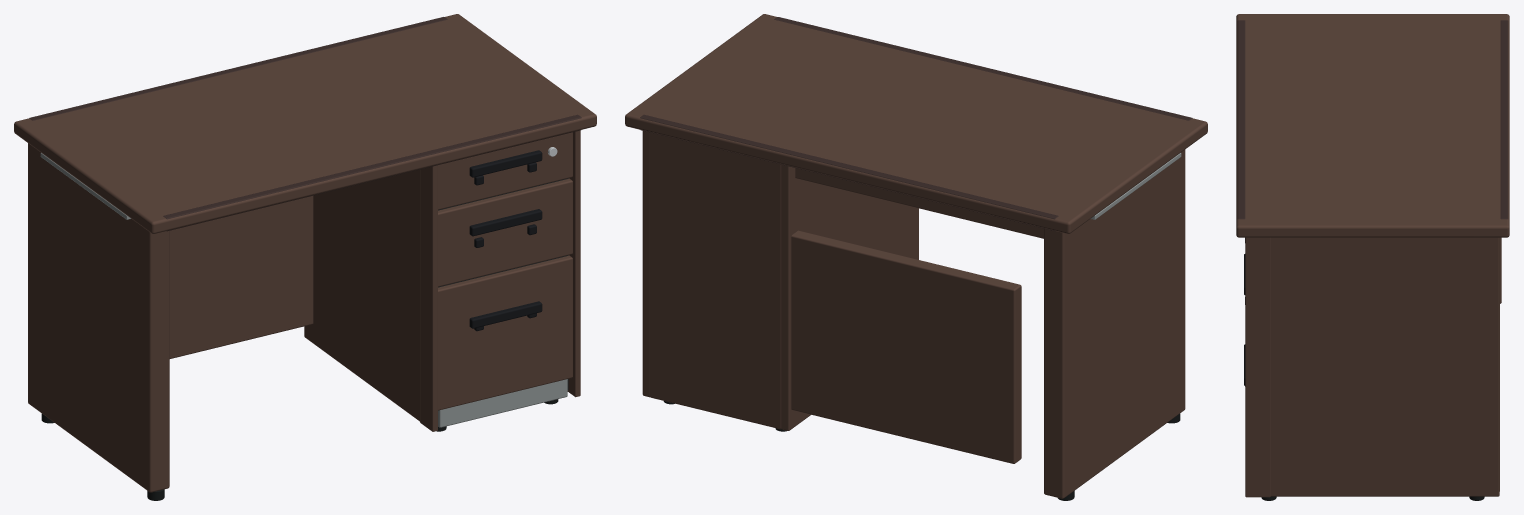
Rendered from wood-pedestal-desk.glb.
3 views of the same model, side by side, from view 1: azimuth 30°, elevation 25°; view 2: azimuth 150°, elevation 25°; view 3: azimuth 270°, elevation 25° (orthographic).
Parts seen in each view (by area): view 1: Runtime batch - Dark sealed walnut laminate, Runtime batch - __moving__Access - Walnut pedestal desk draw (×3), Runtime batch - Dark walnut laminate edge, Runtime batch - Powder coat service gray; view 2: Runtime batch - Dark sealed walnut laminate, Runtime batch - Dark walnut laminate edge; view 3: Runtime batch - Dark sealed walnut laminate, Runtime batch - Dark walnut laminate edge.
Part boxes in pixels (left/top/right/bottom): Runtime batch - Dark sealed walnut laminate: left=14, top=14, right=596, bottom=492; Runtime batch - __moving__Access - Walnut pedestal desk draw (×3): left=438, top=132, right=572, bottom=410; Runtime batch - Dark walnut laminate edge: left=29, top=17, right=581, bottom=231; Runtime batch - Powder coat service gray: left=40, top=153, right=567, bottom=427; Runtime batch - Dark sealed walnut laminate: left=625, top=14, right=1207, bottom=498; Runtime batch - Dark walnut laminate edge: left=640, top=17, right=1192, bottom=231; Runtime batch - Dark sealed walnut laminate: left=1236, top=14, right=1509, bottom=497; Runtime batch - Dark walnut laminate edge: left=1237, top=20, right=1508, bottom=219.
Bounding box in the file's own units: 1.2 × 0.751 × 0.65.
